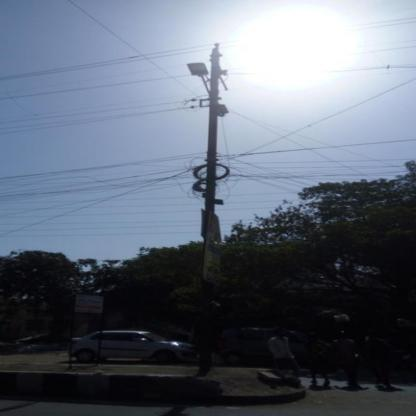Electrical Pole: (162, 40, 239, 375)
